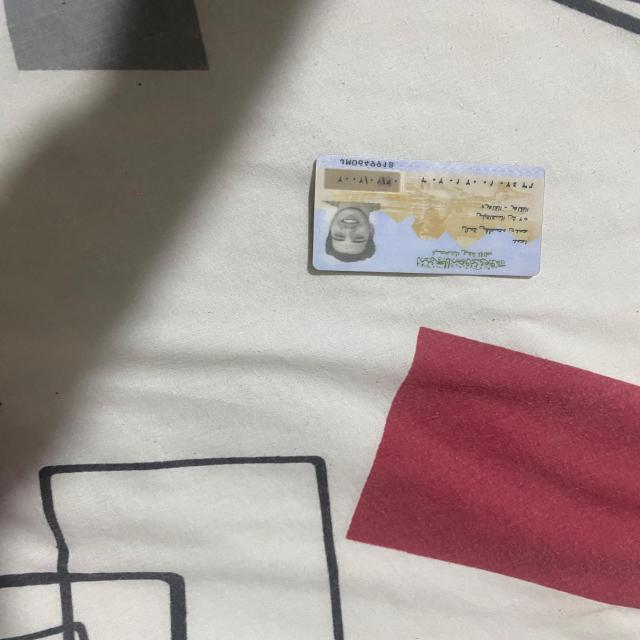ID-cards: (306, 149, 554, 281)
